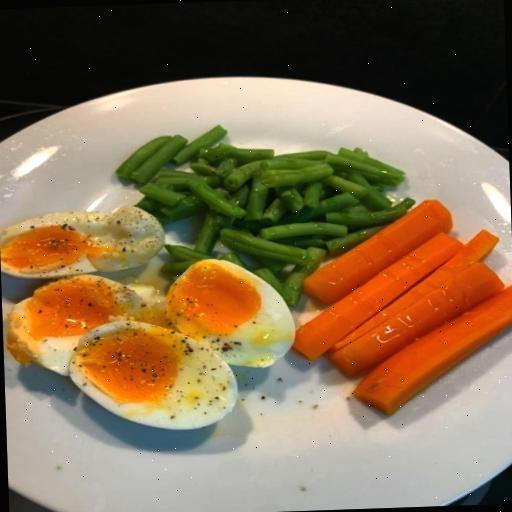buncis_rebus: (106, 98, 411, 226)
